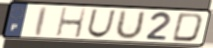2: (145, 10, 173, 43)
D: (170, 12, 205, 43)
H: (55, 7, 88, 39)
I: (34, 6, 48, 37)
U: (113, 9, 147, 41), (86, 8, 118, 39)
